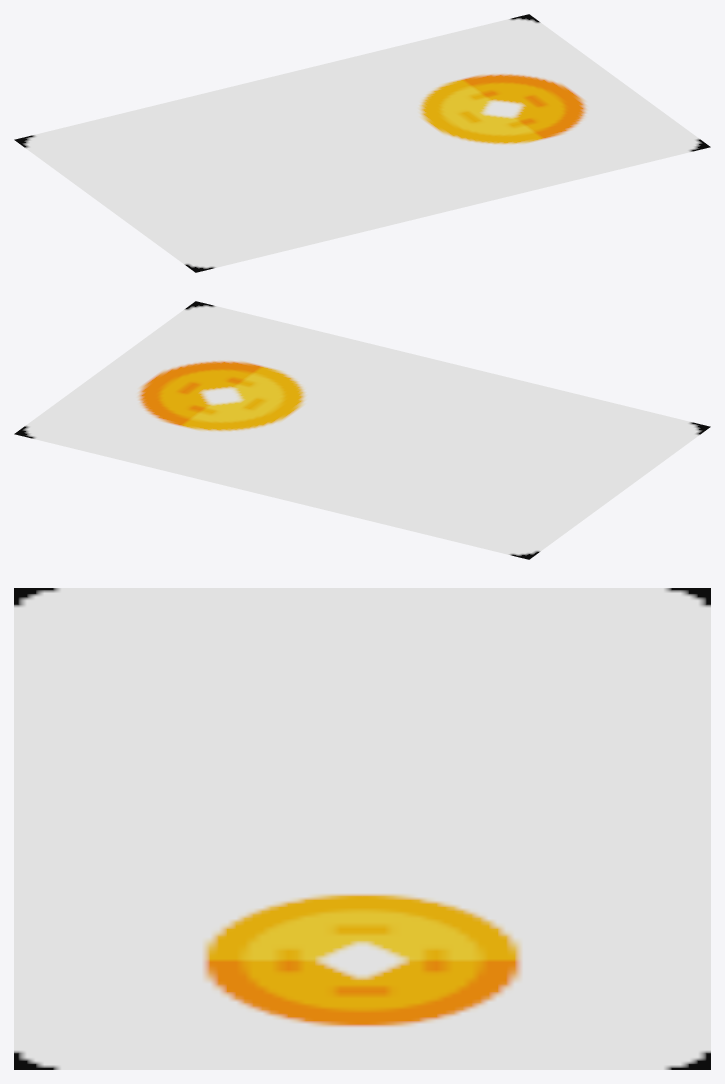
The model's file is Coins Button Animated.fbx.
The picture shows the model from 3 angles, top to bottom: view 1: azimuth 30°, elevation 25°; view 2: azimuth 150°, elevation 25°; view 3: azimuth 270°, elevation 25°; orthographic projection. The views are drawn at different scales.
Parts seen in each view (by area): view 1: Plane001; view 2: Plane001; view 3: Plane001.
Boxes of the visible parts, x1,y1,x2,y2 form: Plane001: (14,14,710,272); Plane001: (14,301,710,559); Plane001: (14,588,710,1069).
Bounding box in the file's own units: 1.58 × 5.9e-17 × 0.9642.
1 material, 1 textured.
